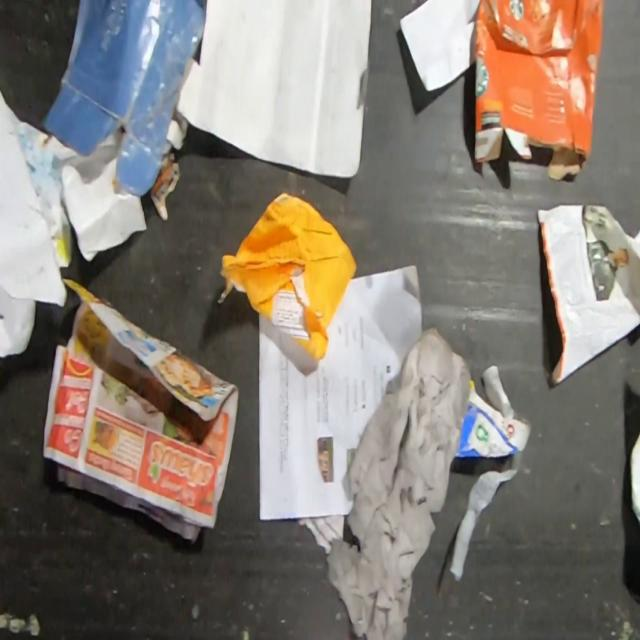cardboard: (174, 0, 372, 178), (36, 0, 205, 198), (472, 0, 604, 181), (398, 0, 482, 92)
soft_plastic: (450, 451, 522, 580), (480, 364, 515, 420)
